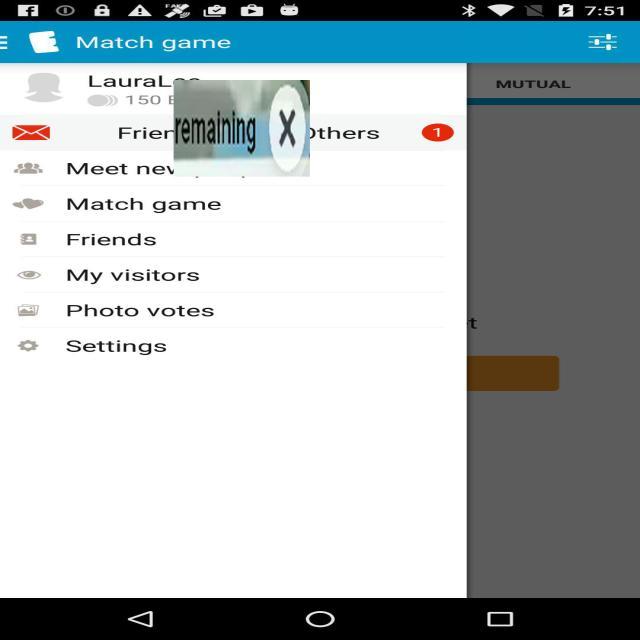misdirection: (174, 80, 310, 177)
